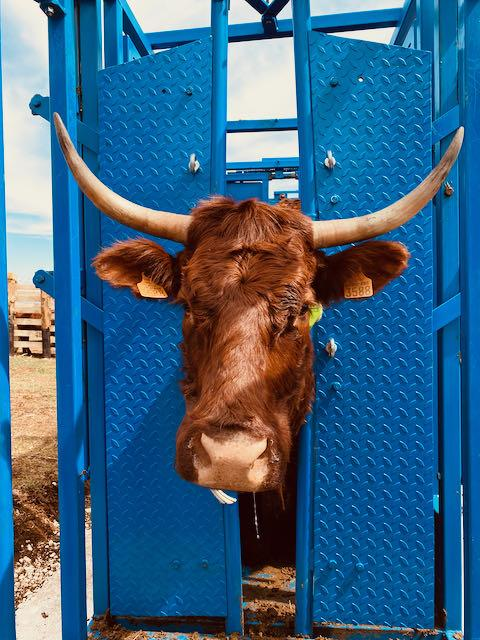muzzles: (169, 420, 291, 500)
